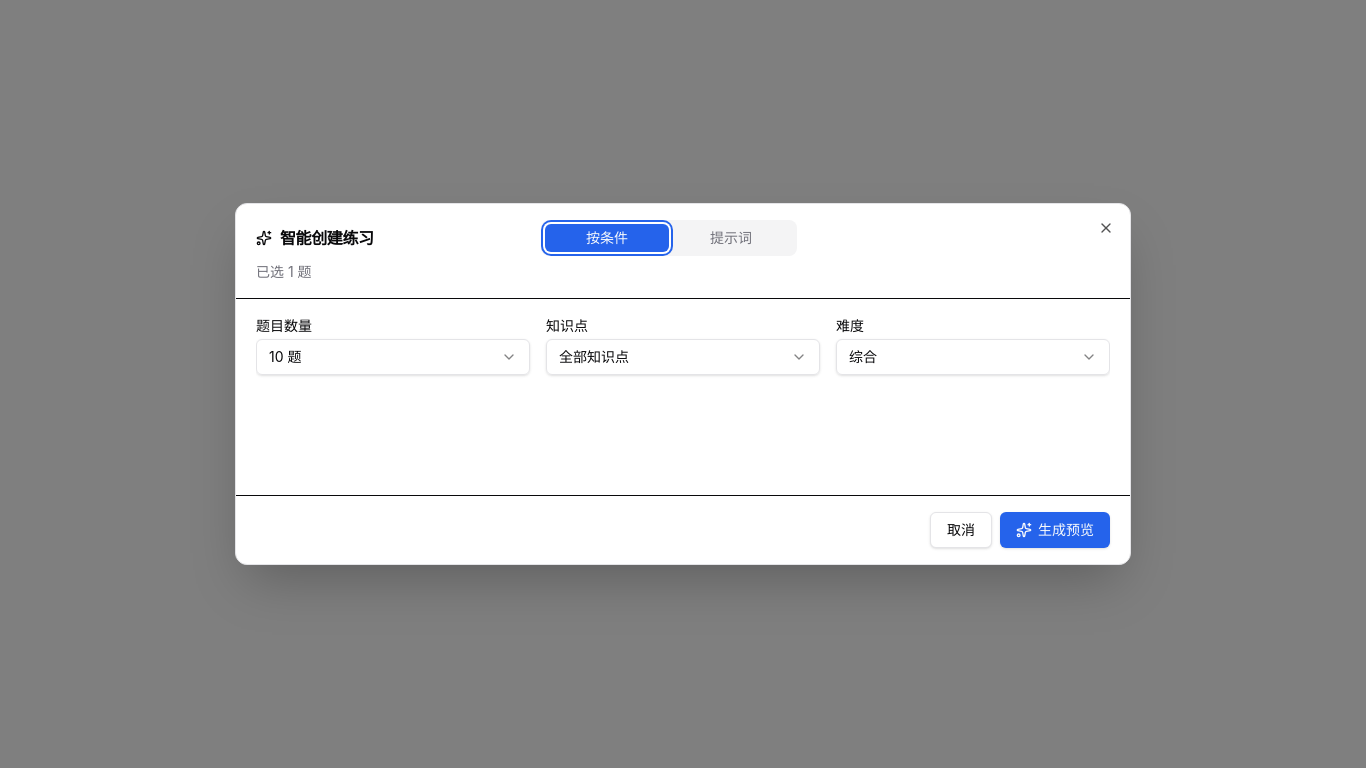
Test case: SmartPracticeDialog › 有勾选时只使用勾选题目并提供提示词模版
The image size is (1366, 768).
expect the text "已选 1 题" is shown: met, box [256, 263, 312, 280]
Step 1. Click the tab "提示词" → point(731, 238), box [669, 224, 793, 252]
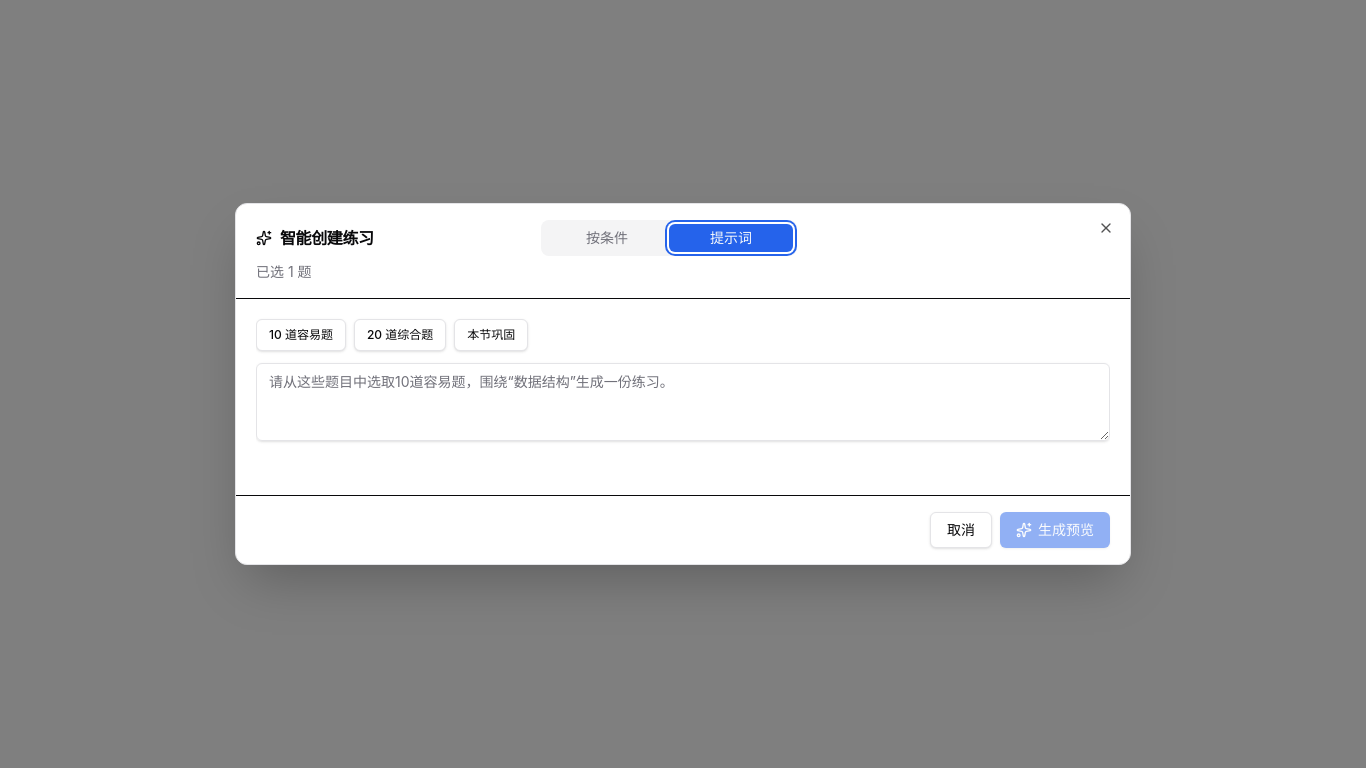
Step 2. Click the button "10 道容易题" → point(301, 335), box [256, 319, 346, 351]
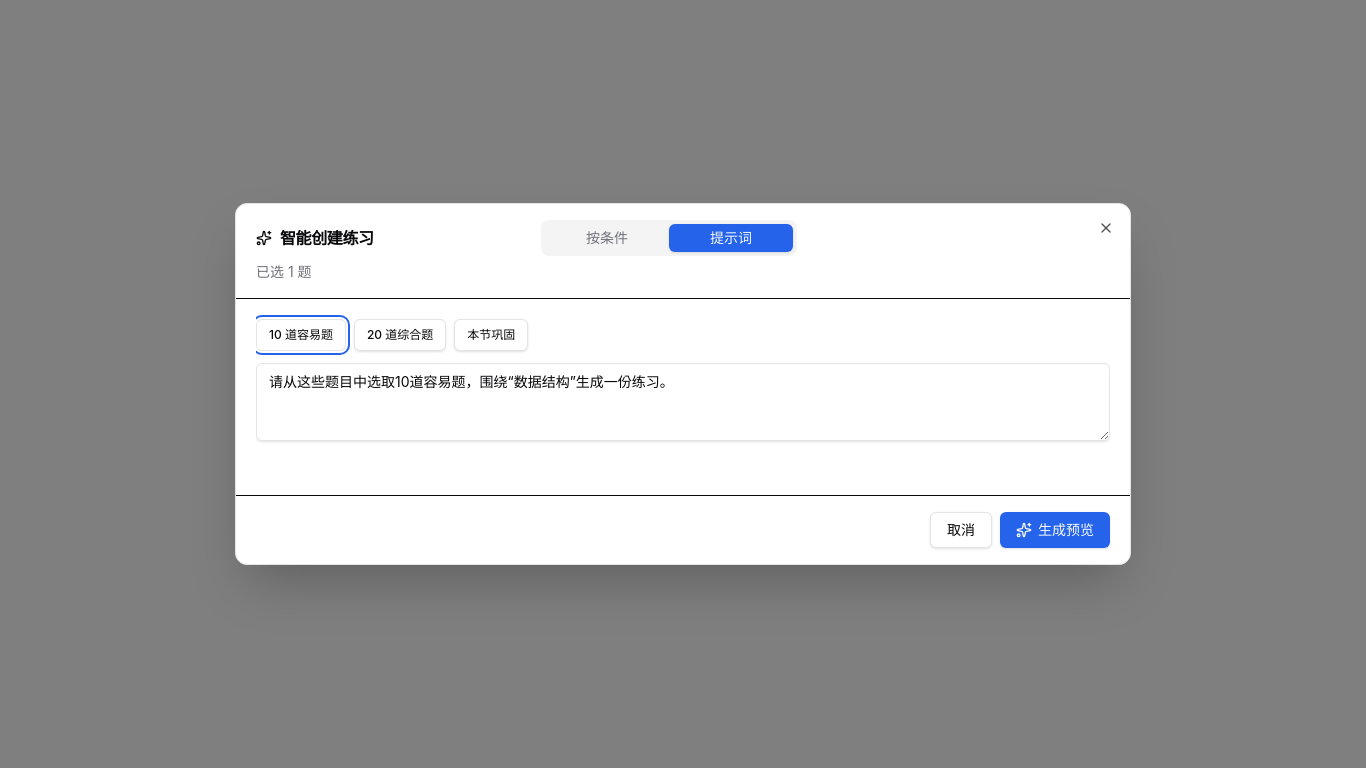
expect the text box named "练习提示词" holds "请从这些题目中选取10道容易题，围绕“数据结构”生成一份练习。": met, box [256, 363, 1110, 441]
